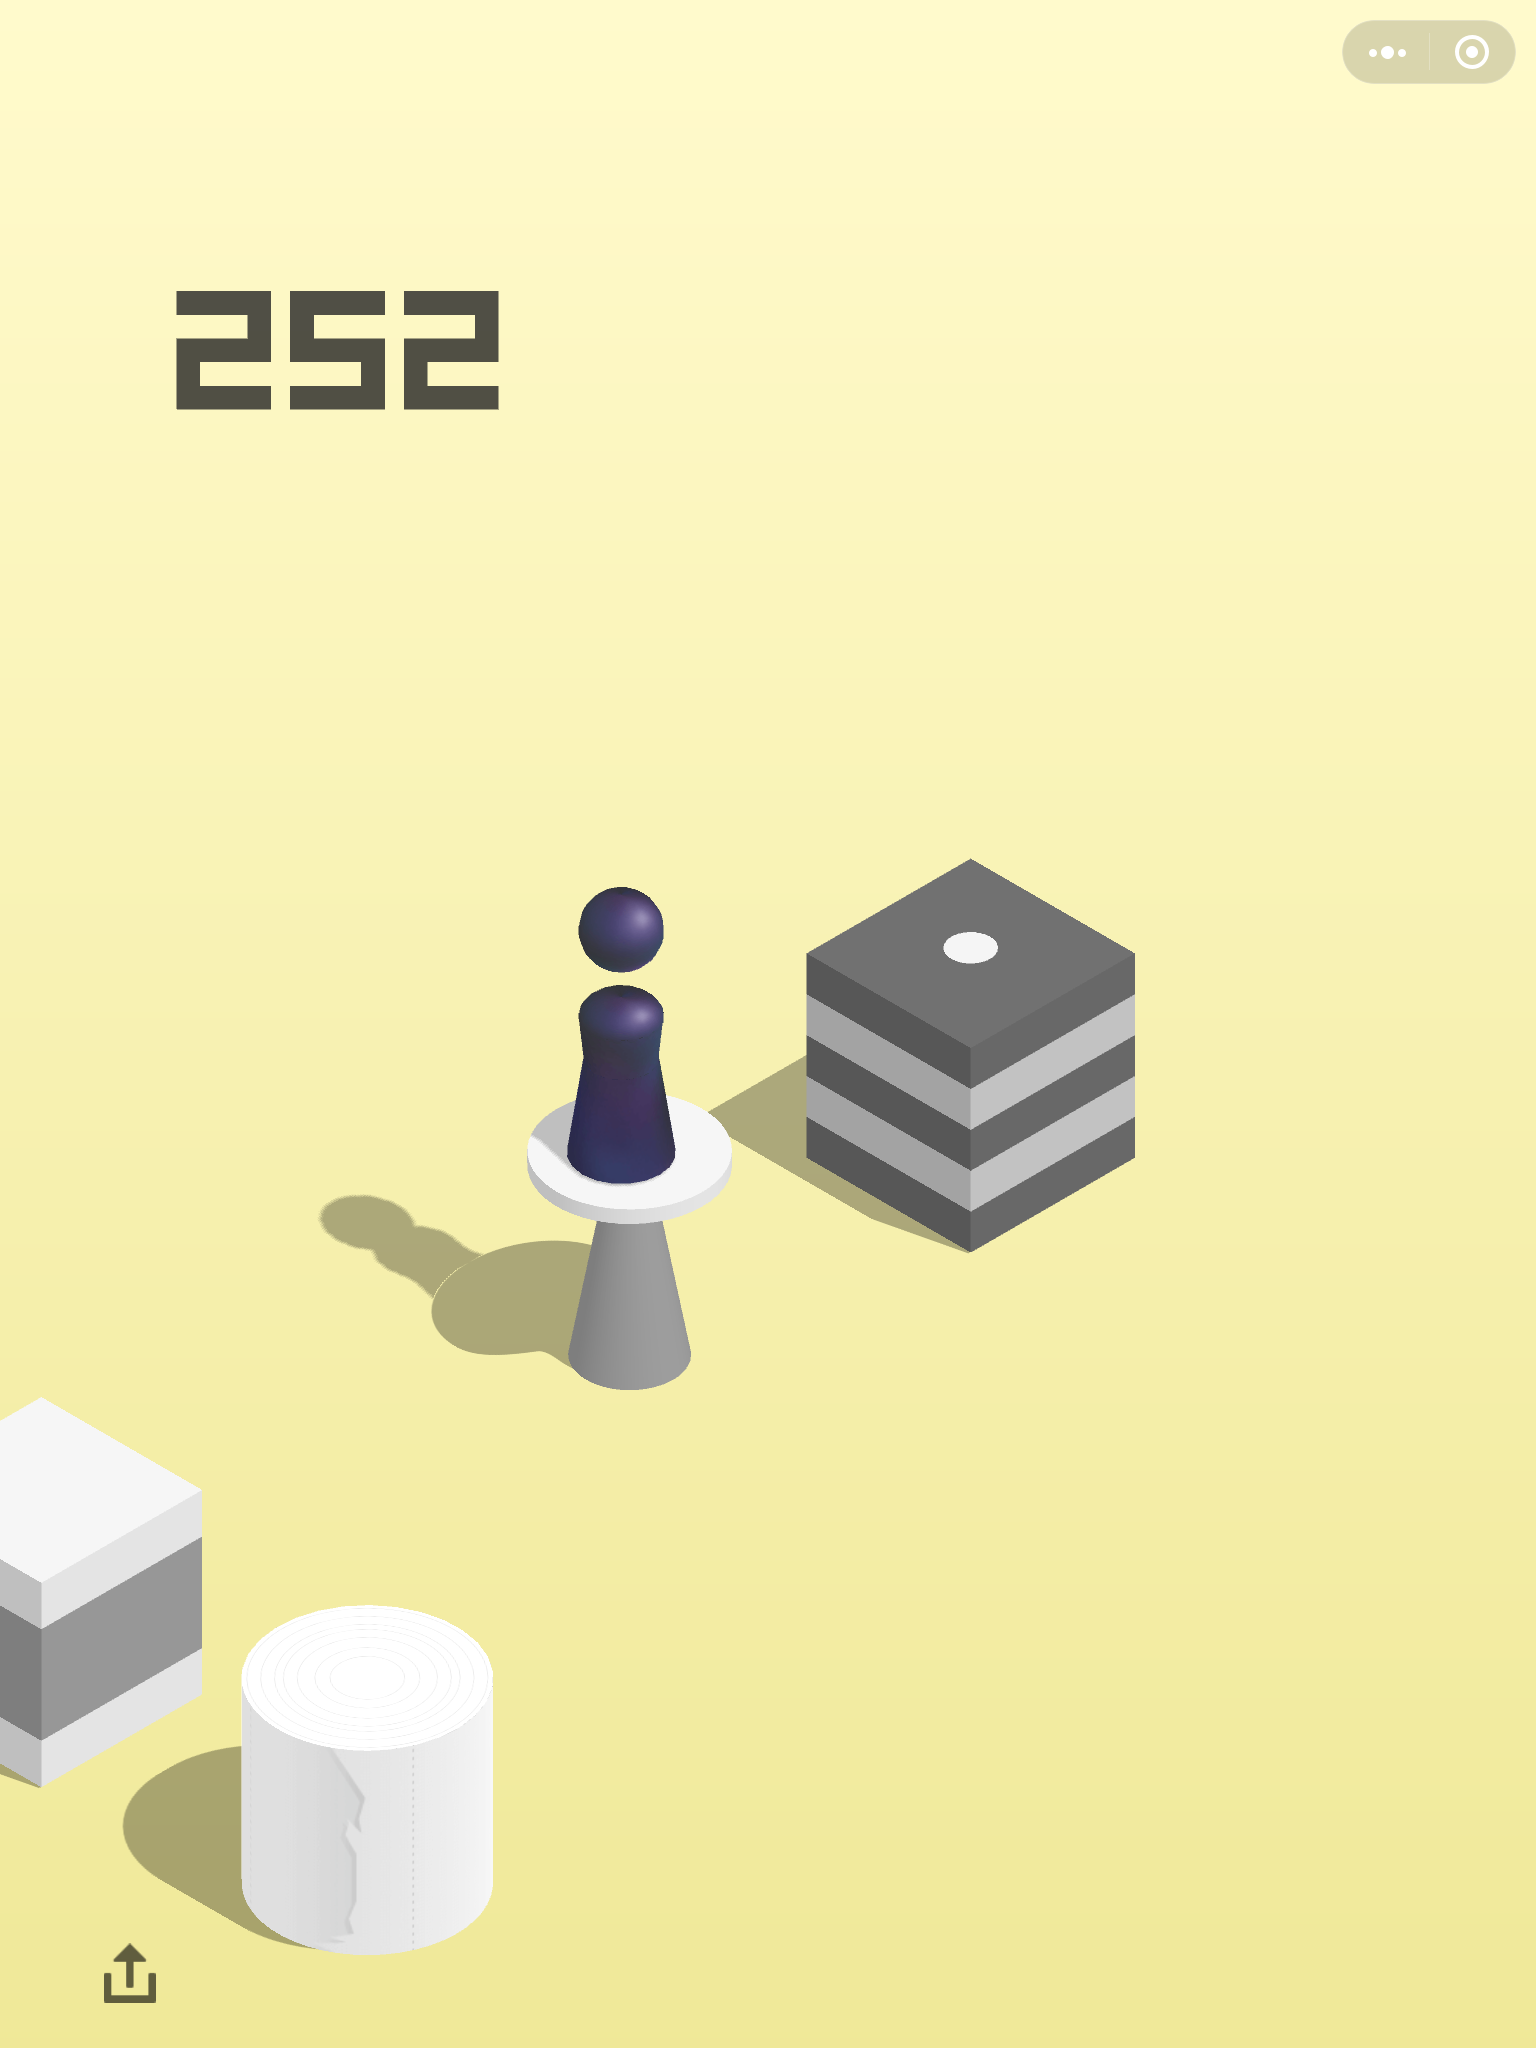c: (237, 1600, 497, 1956), (524, 1085, 736, 1392)
f: (802, 856, 1139, 1256), (2, 1392, 210, 1790)
r: (565, 884, 678, 1187)
